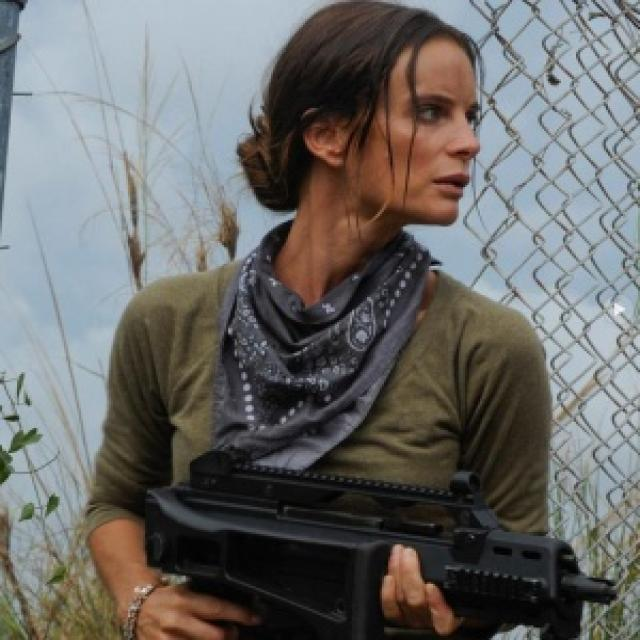rifle: (133, 444, 625, 640)
